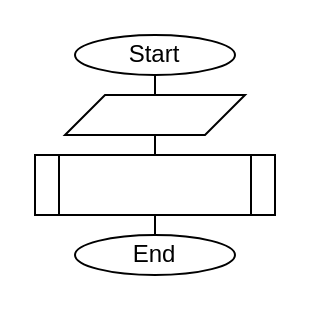
Some shapes in this 310 by 310 pixel diagram are drawn without their labels. The centre of each missing label's shape, as x and y in pixels:
"N, M, k" goes at (154,114).
"traversalMatrix(N M, k)" goes at (154,184).
